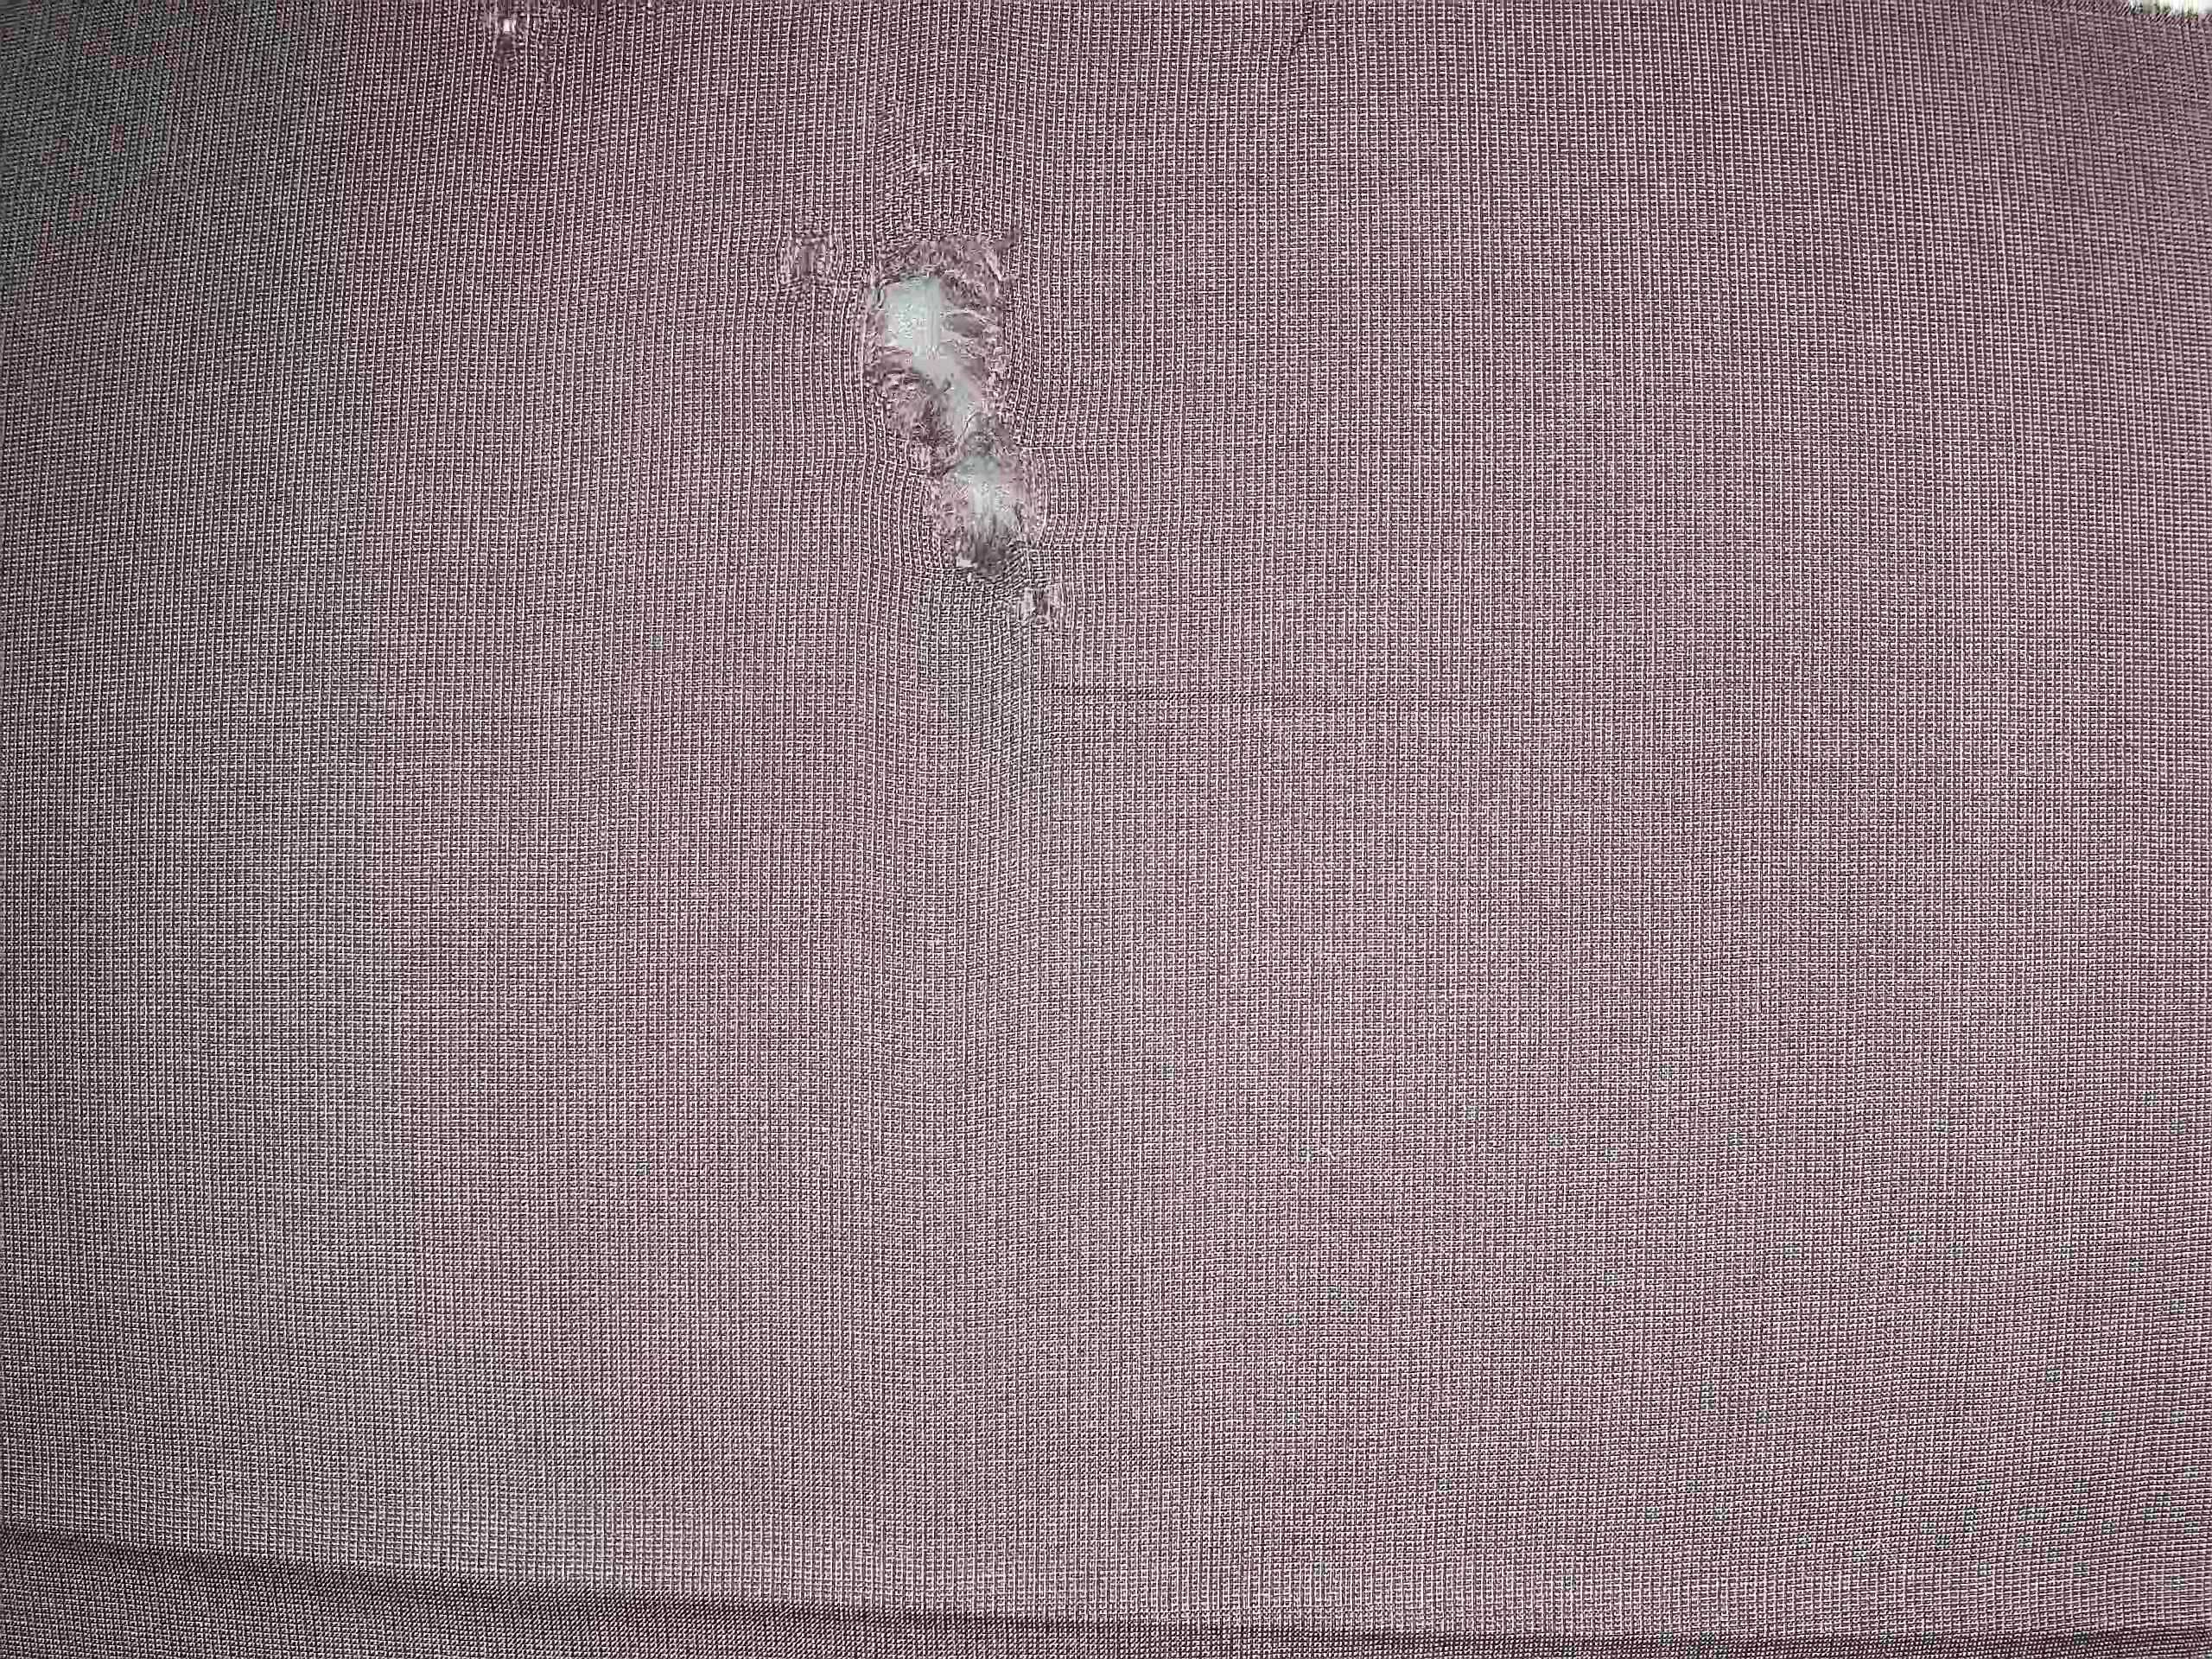rubbing-hole: (782, 167, 1118, 660), (449, 0, 557, 98)
